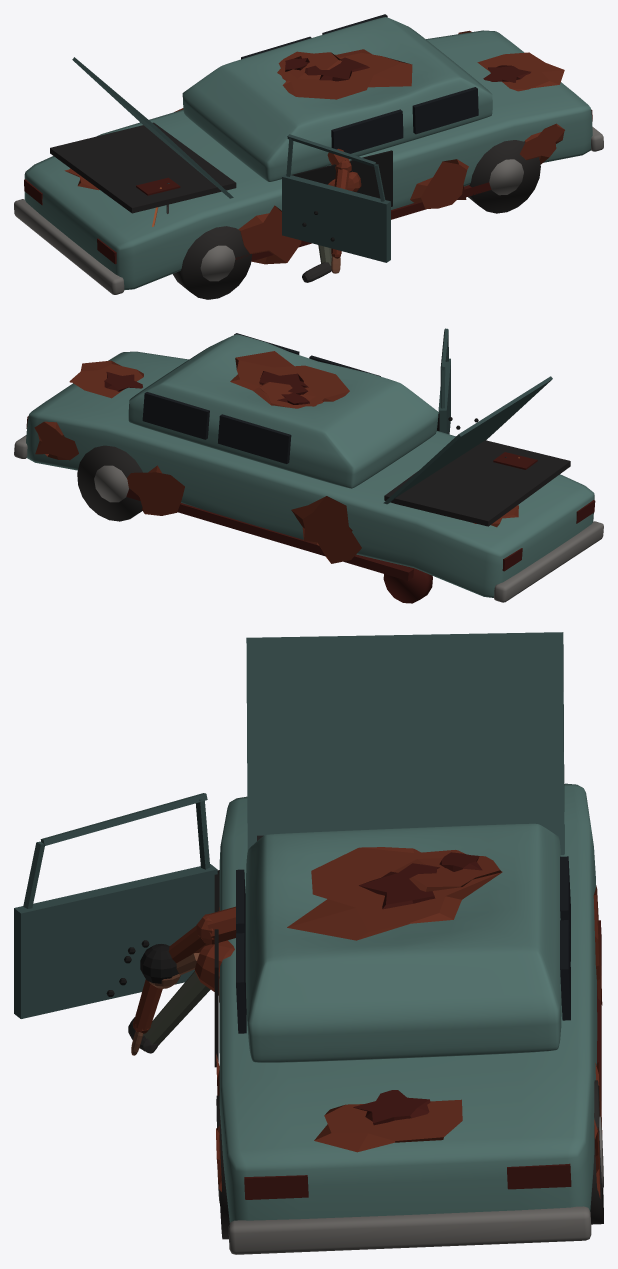
Rendered from car_driver.glb.
3 views of the same model, one above another, from view 1: azimuth 30°, elevation 25°; view 2: azimuth 150°, elevation 25°; view 3: azimuth 270°, elevation 25° (orthographic). The views are drawn at different scales.
Visible parts, largest first — view 1: car_driver; view 2: car_driver; view 3: car_driver.
Part boxes in pixels (x1,y1,x2,y2): car_driver: (14,14,603,299); car_driver: (14,328,603,603); car_driver: (14,632,603,1254).
Size of the model in its own units: 4.84 by 1.73 by 2.78.
